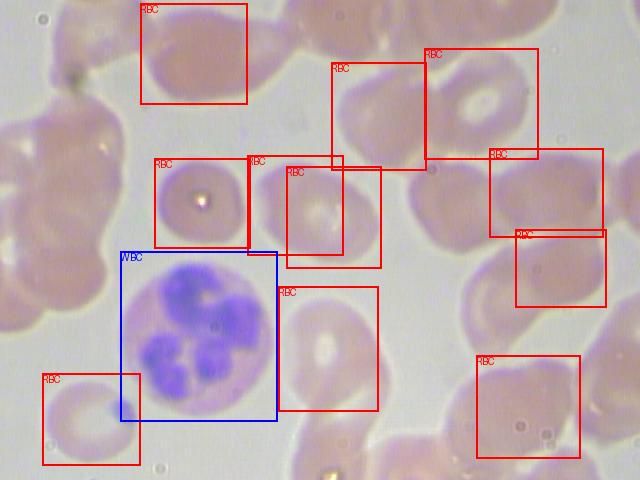RBC: (424, 48, 538, 159), (278, 286, 378, 411), (140, 3, 247, 104), (476, 355, 580, 458), (331, 62, 426, 170), (489, 148, 603, 237), (286, 166, 381, 268), (247, 155, 343, 255), (42, 373, 140, 465), (154, 158, 250, 248), (515, 229, 606, 307)
WBC: (120, 251, 277, 421)
